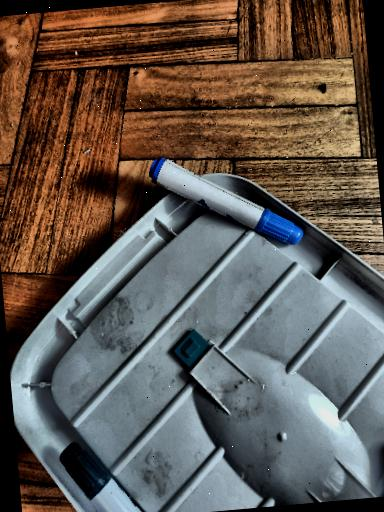marcador azul: (149, 157, 303, 244)
